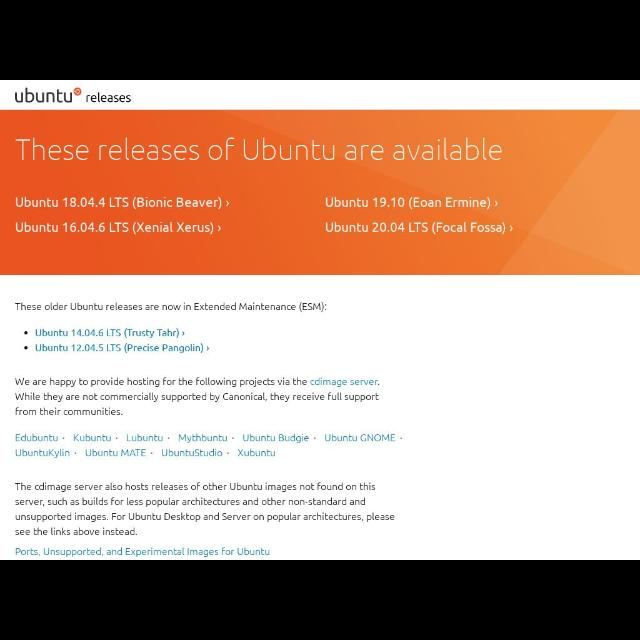icon: (204, 342, 213, 356), (506, 222, 514, 235), (223, 199, 231, 211), (214, 224, 222, 236), (490, 198, 498, 210), (180, 328, 187, 340), (22, 344, 31, 352), (22, 328, 28, 337)
image: (10, 82, 82, 106)
link: (17, 546, 271, 558), (36, 343, 202, 355), (35, 328, 179, 338), (242, 432, 312, 446), (324, 432, 394, 446), (308, 376, 382, 386), (12, 432, 60, 446), (12, 448, 72, 458), (163, 448, 223, 458), (84, 449, 148, 458), (237, 448, 277, 462), (177, 433, 229, 443), (73, 433, 111, 445), (125, 435, 165, 441)
text: (17, 480, 396, 540), (13, 374, 380, 418), (15, 137, 503, 165), (12, 300, 330, 316), (15, 193, 222, 210), (323, 220, 505, 238), (13, 220, 213, 236), (323, 196, 489, 210), (86, 92, 132, 105)
